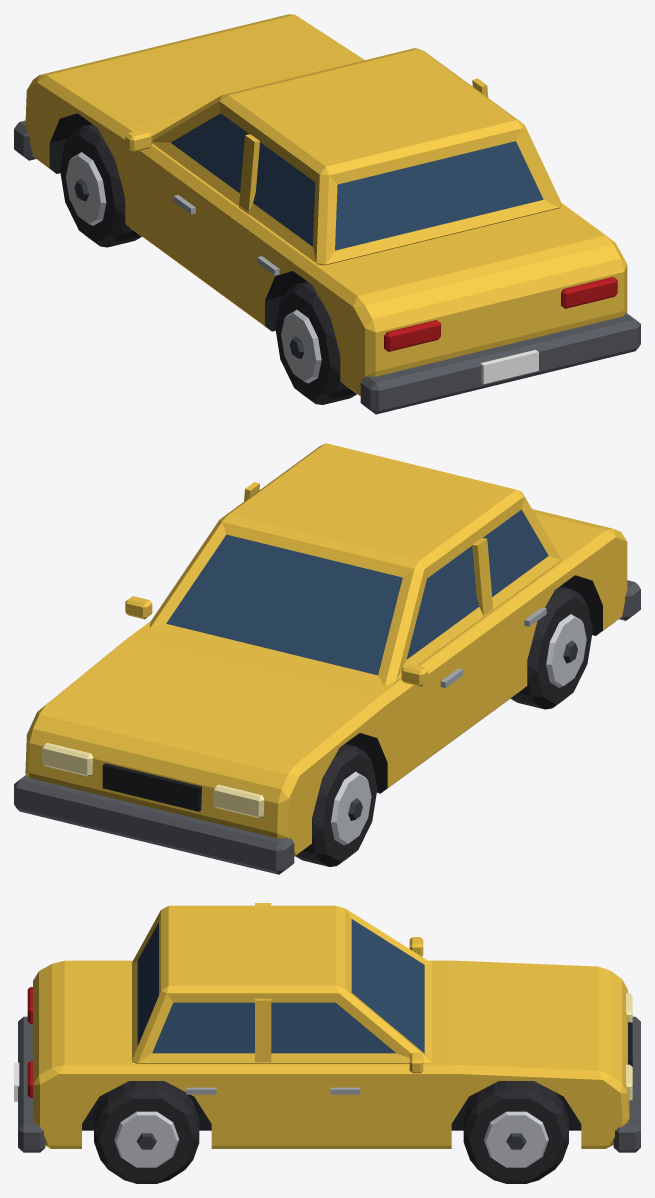
The model's file is Car_Blue.glb.
The picture shows the model from 3 angles, top to bottom: view 1: azimuth 30°, elevation 25°; view 2: azimuth 150°, elevation 25°; view 3: azimuth 270°, elevation 25°; orthographic projection. The views are drawn at different scales.
Visible parts, largest first — view 1: Car_Blue_Body, Car_Blue_Wheel_FL, Car_Blue_Wheel_RL; view 2: Car_Blue_Body, Car_Blue_Wheel_FL, Car_Blue_Wheel_RL; view 3: Car_Blue_Body, Car_Blue_Wheel_FR, Car_Blue_Wheel_RR.
Boxes of the visible parts, <box> form: Car_Blue_Body: <box>14,14,640,414</box>; Car_Blue_Wheel_FL: <box>60,124,141,247</box>; Car_Blue_Wheel_RL: <box>275,282,356,404</box>; Car_Blue_Body: <box>14,443,640,874</box>; Car_Blue_Wheel_FL: <box>295,744,377,866</box>; Car_Blue_Wheel_RL: <box>510,586,592,709</box>; Car_Blue_Body: <box>14,903,640,1152</box>; Car_Blue_Wheel_FR: <box>463,1081,568,1183</box>; Car_Blue_Wheel_RR: <box>94,1081,199,1183</box>.
Bounding box in the file's own units: 2.16 × 1.5 × 4.58.
1 material, 1 textured.
